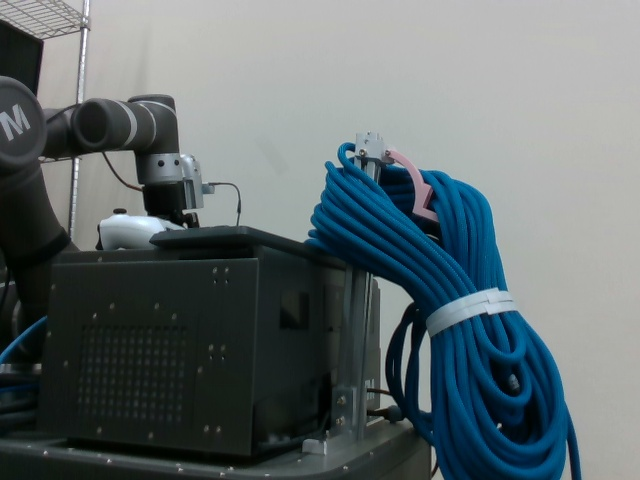rope: (300, 135, 588, 480)
